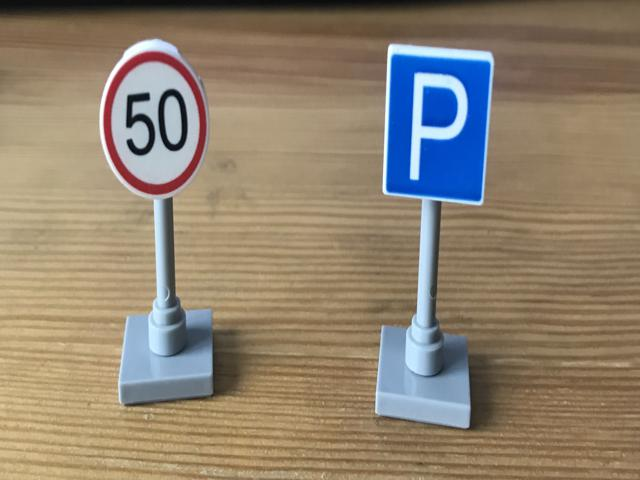parken: (378, 49, 499, 205)
tempolimit 50: (98, 46, 211, 191)
